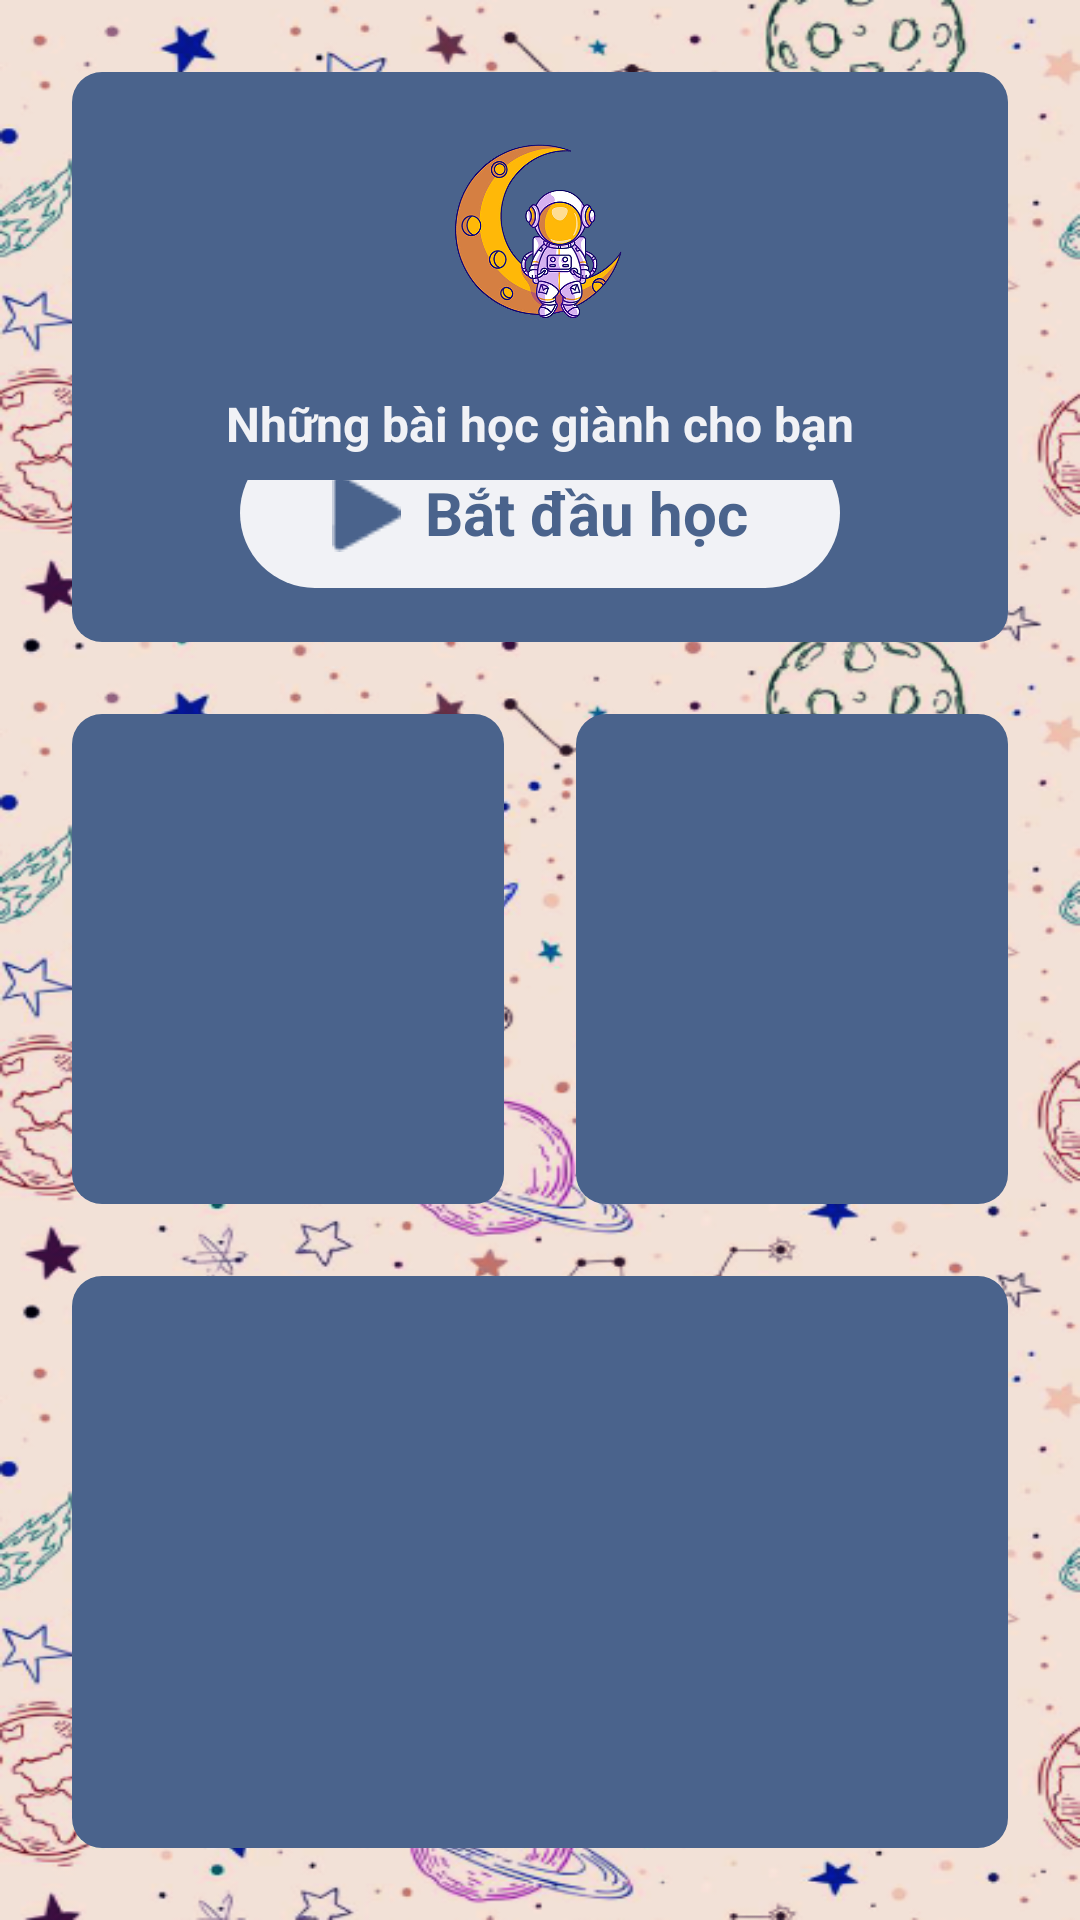

Icons on this 1080×1920 Android screen, each with the point to tap as [x,y]:
playx: [366,516]
